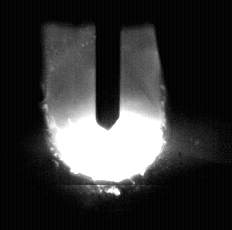arame: (95, 0, 122, 131)
poca: (54, 0, 166, 230)
